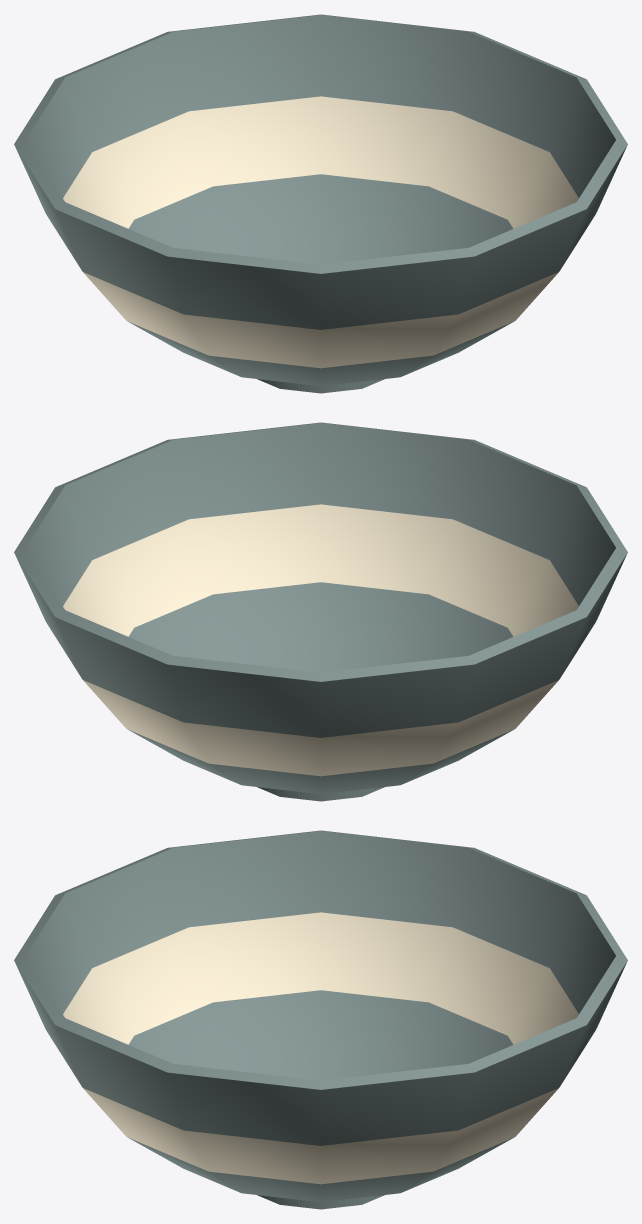
The model's file is bowl.fbx.
3 views of the same model, one above another, from view 1: azimuth 30°, elevation 25°; view 2: azimuth 150°, elevation 25°; view 3: azimuth 270°, elevation 25° (orthographic).
Visible parts, largest first — view 1: bowl; view 2: bowl; view 3: bowl.
Part boxes in pixels (bbox=[...]): bowl: bbox=[14, 14, 627, 393]; bowl: bbox=[14, 422, 627, 801]; bowl: bbox=[14, 830, 627, 1209].
Bounding box in the file's own units: 61.69 × 24.27 × 61.69.
